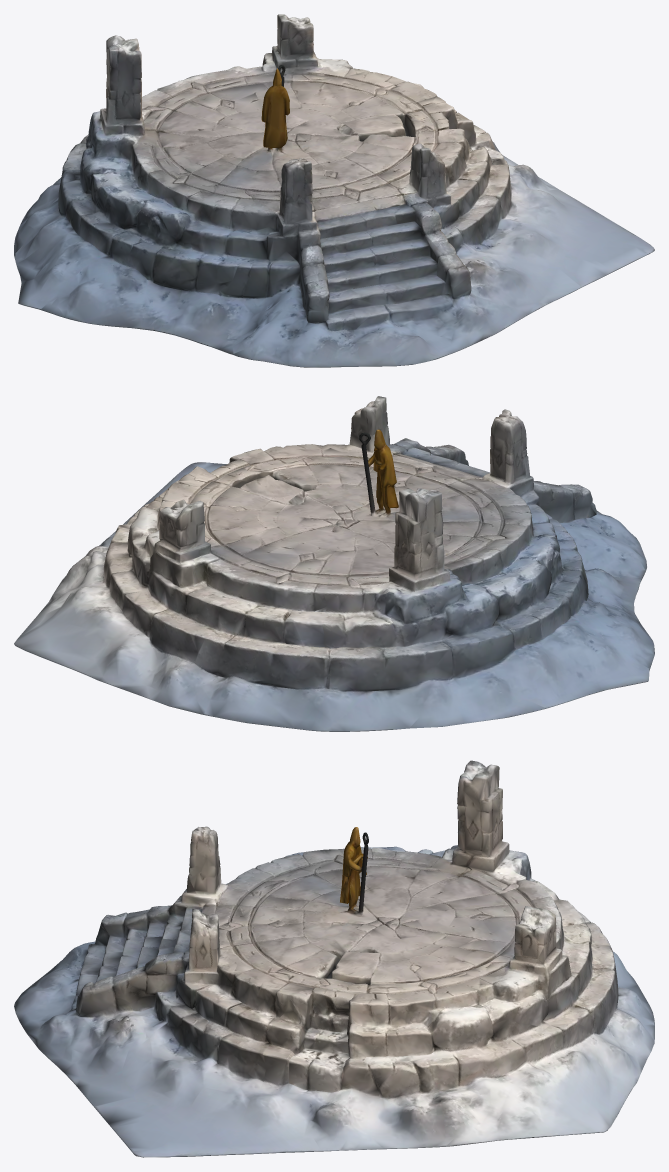
The model's file is plataforma_antigua.glb.
3 views of the same model, one above another, from view 1: azimuth 30°, elevation 25°; view 2: azimuth 150°, elevation 25°; view 3: azimuth 270°, elevation 25° (orthographic). The views are drawn at different scales.
Parts seen in each view (by area): view 1: tripo_node_25d2c29d-808f-4287-aa02-5c25ed539efe; view 2: tripo_node_25d2c29d-808f-4287-aa02-5c25ed539efe; view 3: tripo_node_25d2c29d-808f-4287-aa02-5c25ed539efe.
Boxes of the visible parts, bbox=[...] form: tripo_node_25d2c29d-808f-4287-aa02-5c25ed539efe: bbox=[14, 14, 654, 367]; tripo_node_25d2c29d-808f-4287-aa02-5c25ed539efe: bbox=[14, 396, 654, 731]; tripo_node_25d2c29d-808f-4287-aa02-5c25ed539efe: bbox=[14, 760, 654, 1157].
Bounding box in the file's own units: 1 × 0.3297 × 0.9702.
1 material, 1 textured.
